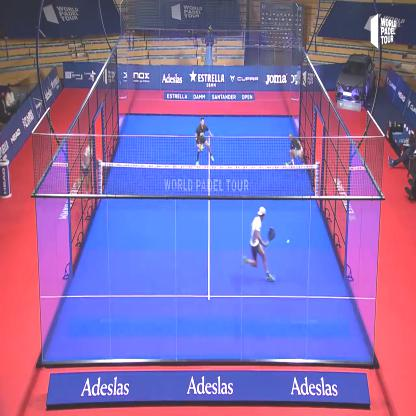ball: (286, 237, 292, 247)
